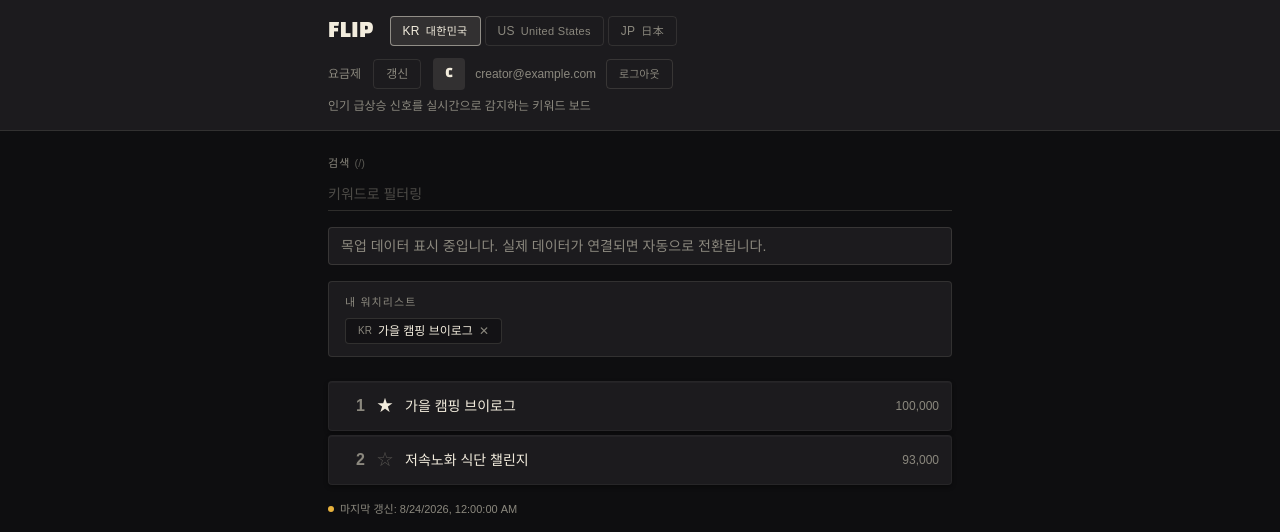
Test: Home dashboard › watchlist rank-change notifications › removes an entry via the watchlist panel's own remove button
Click the button named "가을 캠핑 브이로그 워치리스트에서 제거": (484, 331) [479,323,489,339]
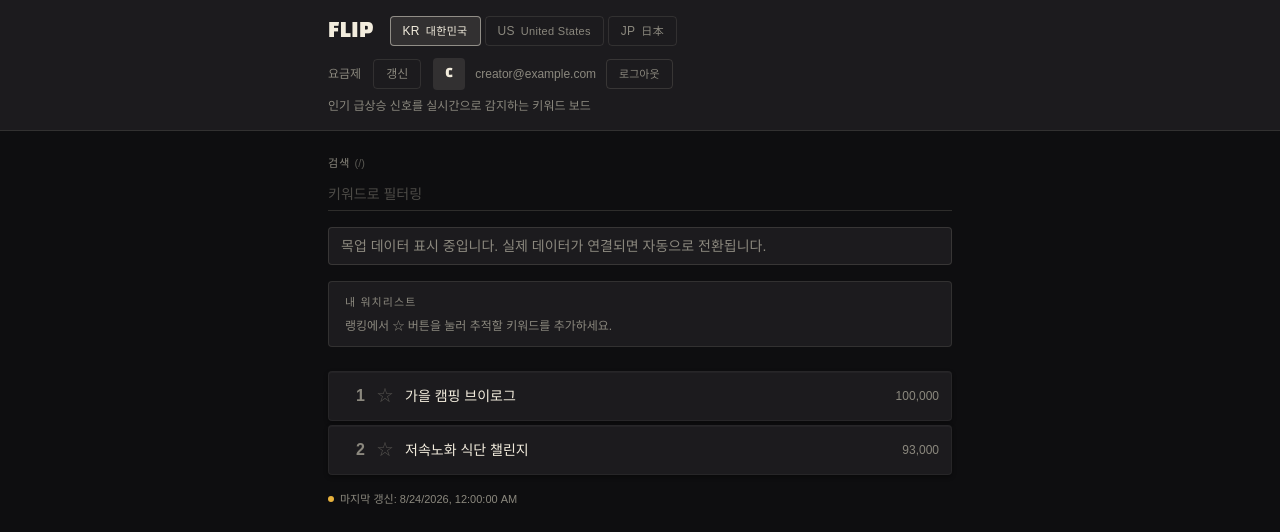
Result: the text "랭킹에서 ☆ 버튼을 눌러 추적할 키워드를 추가하세요." is shown at [345,319,612,333]
